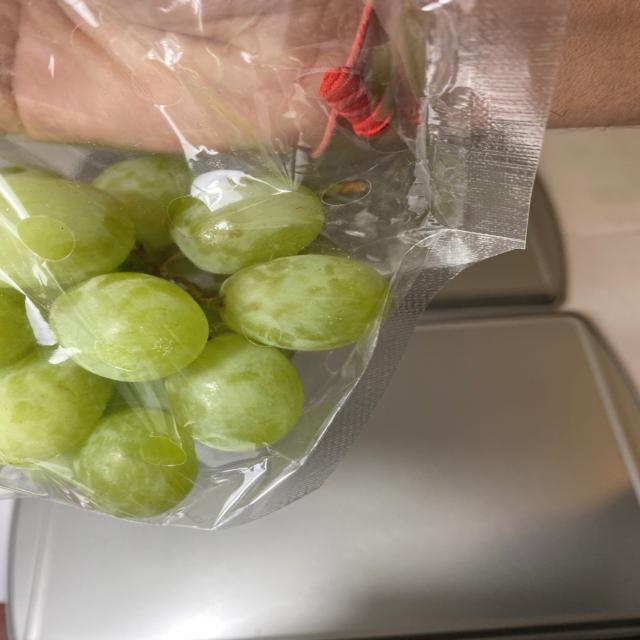grapes: (0, 154, 395, 535)
